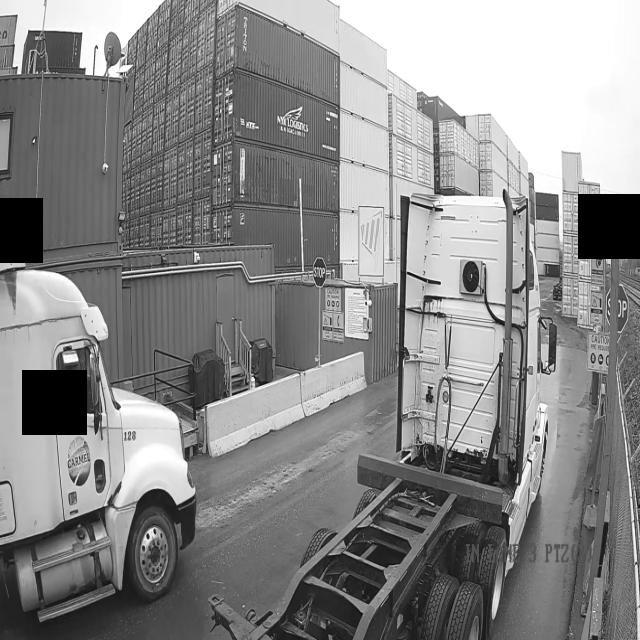truck_cabin: (0, 212, 196, 622)
truck_company: (67, 438, 90, 485)
truck_number: (122, 427, 142, 444)
truck_trailer: (210, 191, 557, 640)
